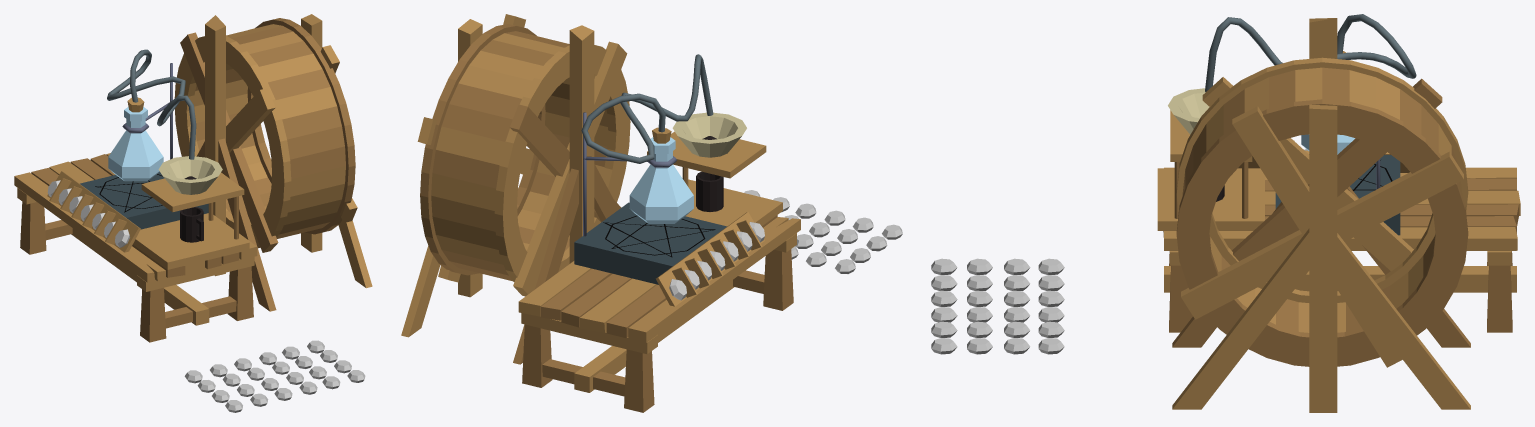
File: Coffee.fbx
The picture shows the model from 3 angles, left to right: view 1: azimuth 30°, elevation 25°; view 2: azimuth 150°, elevation 25°; view 3: azimuth 270°, elevation 25°; orthographic projection. The views are drawn at different scales.
Parts seen in each view (by area): view 1: Roue, TableCafé, Base Tasse, Support, BasePentacle, Eau, Support Runes, Tuyau, Cylinder.001, Support eau; view 2: Roue, TableCafé, Support, BasePentacle, Base Tasse, Eau, Support Runes, Tuyau, Cylinder.001, Support eau; view 3: Roue, Support, TableCafé, Base Tasse, Tuyau, BasePentacle.
Boxes of the visible parts, box(x1,y1,x2,y2) form: Roue: box(174, 18, 357, 252); TableCafé: box(14, 153, 257, 342); Base Tasse: box(133, 156, 249, 269); Support: box(196, 14, 372, 311); BasePentacle: box(80, 172, 208, 229); Eau: box(108, 97, 163, 181); Support Runes: box(47, 171, 140, 252); Tuyau: box(107, 49, 196, 159); Cylinder.001: box(180, 207, 203, 242); Support eau: box(122, 63, 172, 159); Roue: box(417, 14, 630, 296); TableCafé: box(518, 215, 800, 412); Support: box(401, 19, 618, 364); BasePentacle: box(574, 202, 726, 284); Base Tasse: box(647, 112, 782, 226); Eau: box(629, 127, 693, 223); Support Runes: box(656, 212, 764, 306); Tuyau: box(581, 54, 713, 163); Cylinder.001: box(696, 171, 723, 211); Support eau: box(583, 112, 676, 236); Roue: box(1176, 57, 1468, 367); Support: box(1172, 18, 1470, 412); TableCafé: box(1163, 167, 1520, 332); Base Tasse: box(1157, 88, 1264, 230); Tuyau: box(1205, 14, 1416, 91); BasePentacle: box(1275, 155, 1400, 235).
Bounding box in the file's own units: 0.9687 × 1.01 × 1.59.
